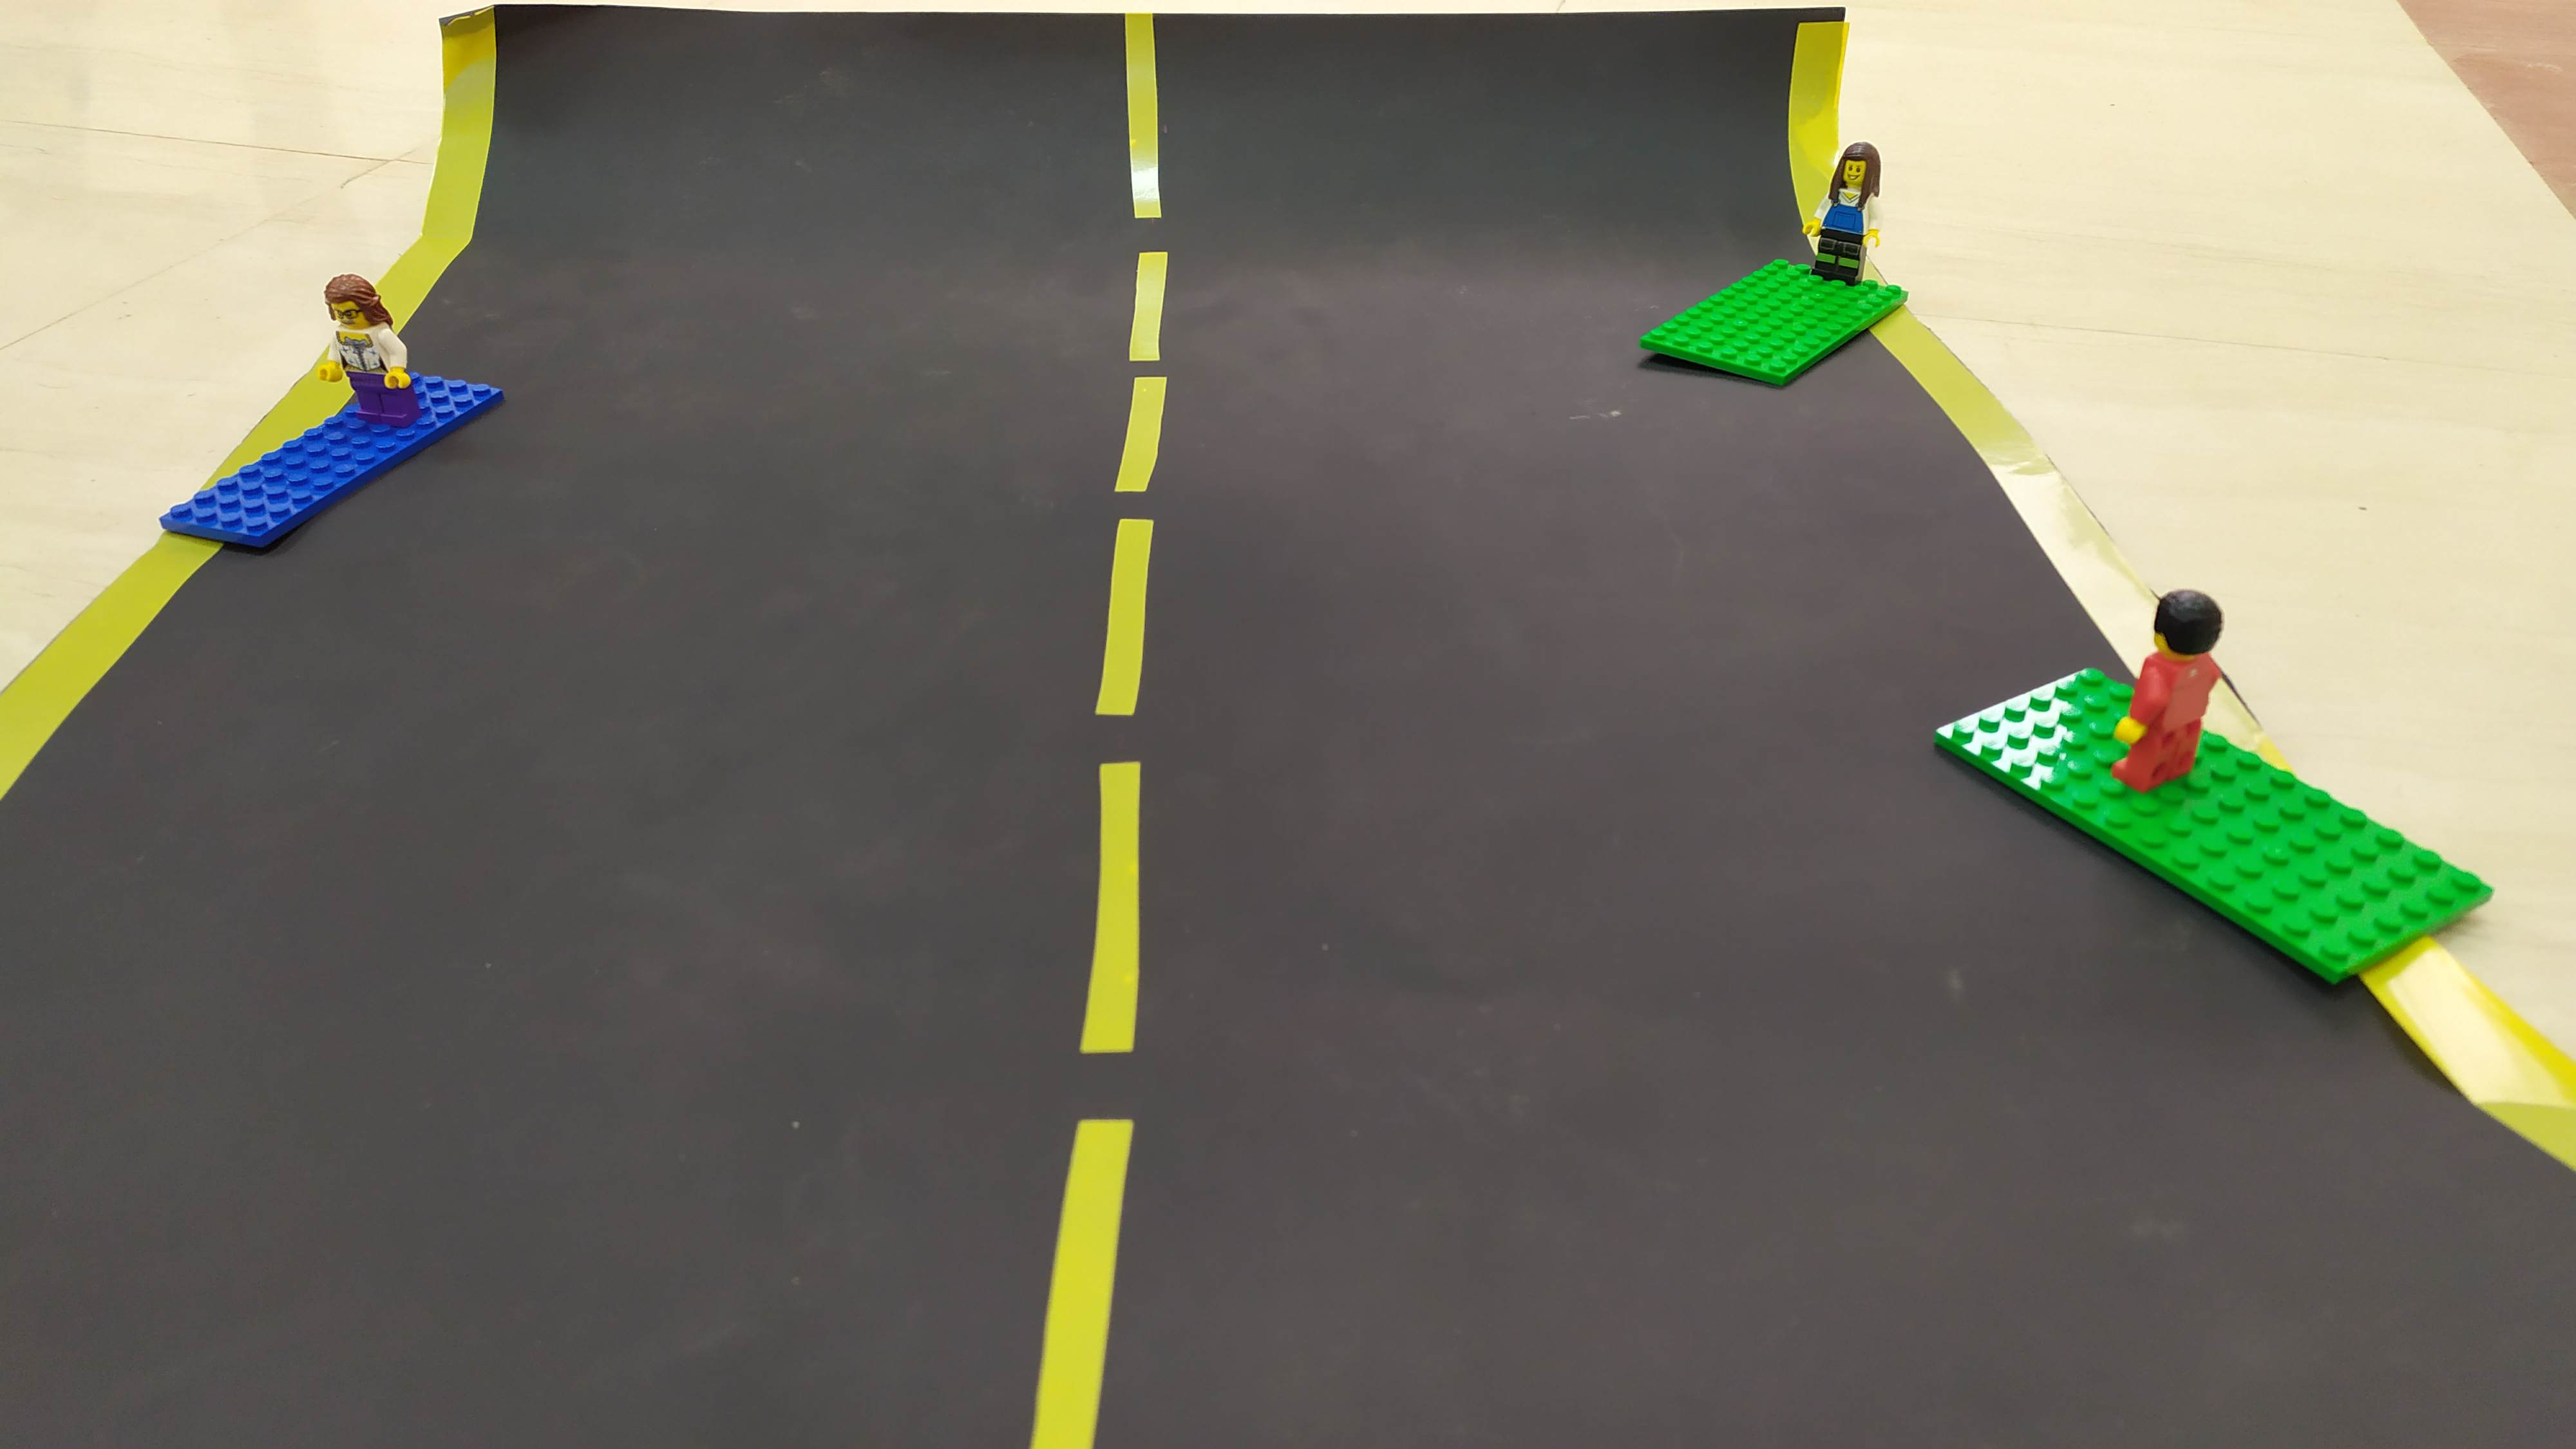Person: (2122, 583, 2251, 815), (312, 267, 435, 415), (1813, 132, 1903, 306)
